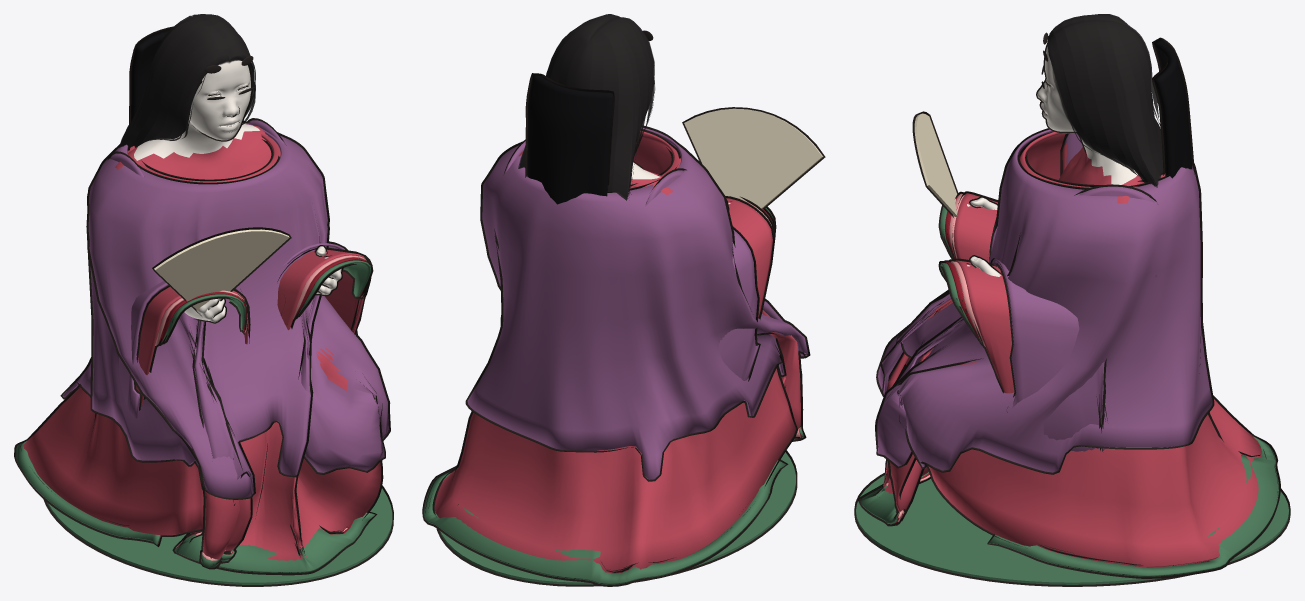
Rendered from nyo_kouchiki.glb.
3 renders of one model, left to right at view 1: azimuth 30°, elevation 25°; view 2: azimuth 150°, elevation 25°; view 3: azimuth 270°, elevation 25°, orthographic. The views are drawn at different scales.
Parts seen in each view (by area): view 1: kouchiki, uchiki, Human, Human.long01, soko, kasane3, kouchiki_sen, ougi, sode.L, karaginu_sode.R, uchiki_sen, sode.R (+7 smaller); view 2: kouchiki, uchiki, Human.long01, kami, ougi, kasane3, soko, karaginu_sode.R, kouchiki_sen, sode.R, kasane3_sen, uchiki_sen (+5 smaller); view 3: kouchiki, uchiki, Human.long01, soko, karaginu_sode.L, kasane3, kouchiki_sen, Human, sode.L, kami, sode.R, ougi (+5 smaller).
Boxes of the visible parts, x1,y1,x2,y2 form: kouchiki: (62,123,389,502); uchiki: (23,134,380,560); Human: (115,60,341,322); Human.long01: (119,14,255,148); soko: (46,488,392,584); kasane3: (16,441,374,572); kouchiki_sen: (60,121,390,505); ougi: (154,229,289,313); sode.L: (277,249,365,333); karaginu_sode.R: (110,153,239,418); uchiki_sen: (20,139,383,564); sode.R: (136,287,248,406); kouchiki: (467,127,808,479); uchiki: (434,131,800,573); Human.long01: (518,14,655,200); kami: (527,74,613,204); ougi: (684,108,823,208); kasane3: (424,428,804,584); soko: (439,452,795,584); karaginu_sode.R: (645,170,758,380); kouchiki_sen: (465,125,810,481); sode.R: (726,198,772,317); kasane3_sen: (422,426,806,586); uchiki_sen: (432,129,803,531); kouchiki: (877,129,1212,472); uchiki: (877,132,1261,567); Human.long01: (1047,14,1163,187); soko: (856,475,1288,584); karaginu_sode.L: (995,186,1157,451); kasane3: (860,436,1278,576); kouchiki_sen: (875,128,1214,474); Human: (967,46,1142,276); sode.L: (956,260,1014,393); kami: (1154,39,1192,178); sode.R: (953,143,1066,262); ougi: (914,113,957,216).
Size of the model in its own units: 0.546 by 0.8667 by 0.6908.
13 materials, 1 textured.
